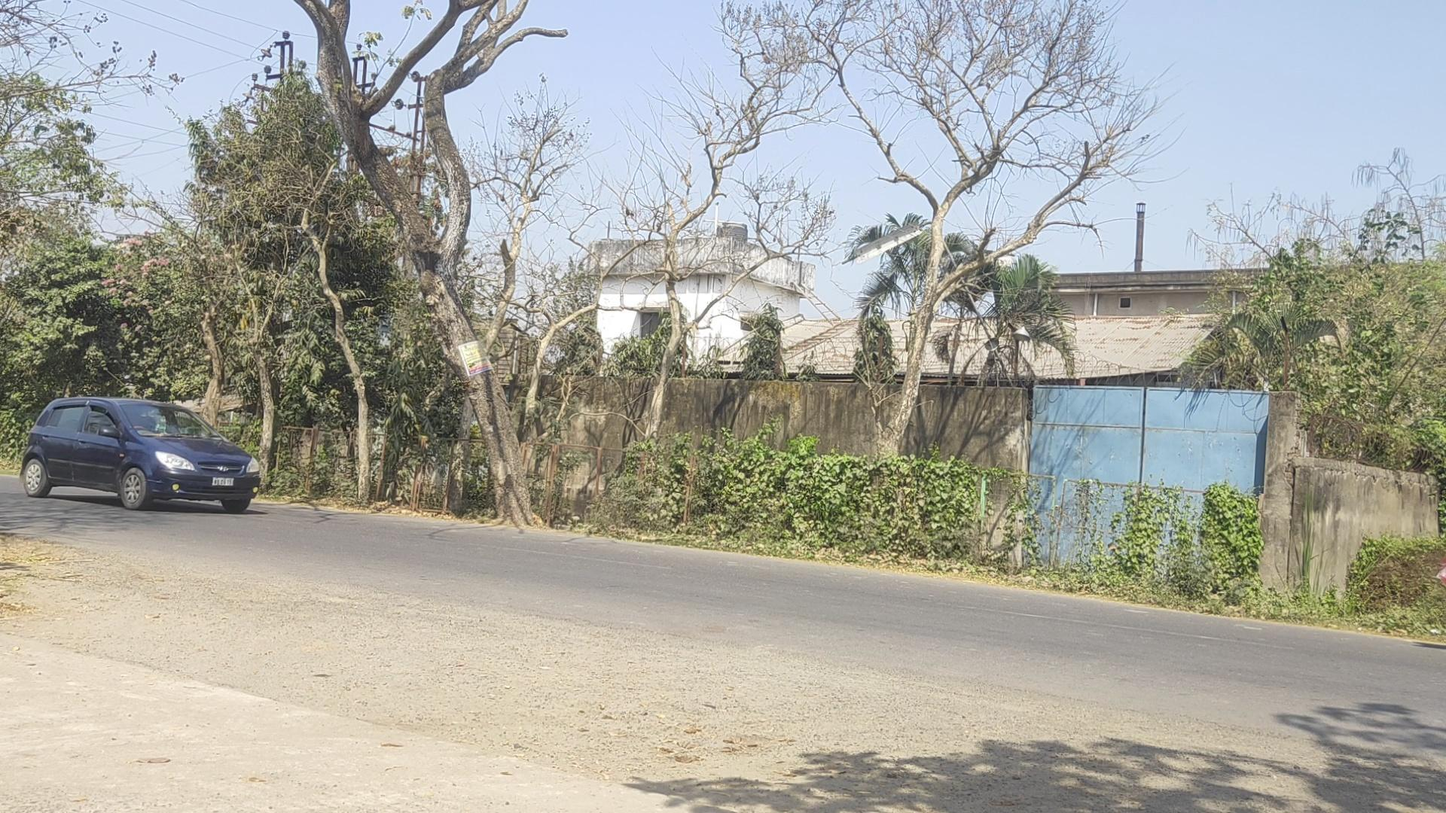car: (20, 395, 259, 514)
